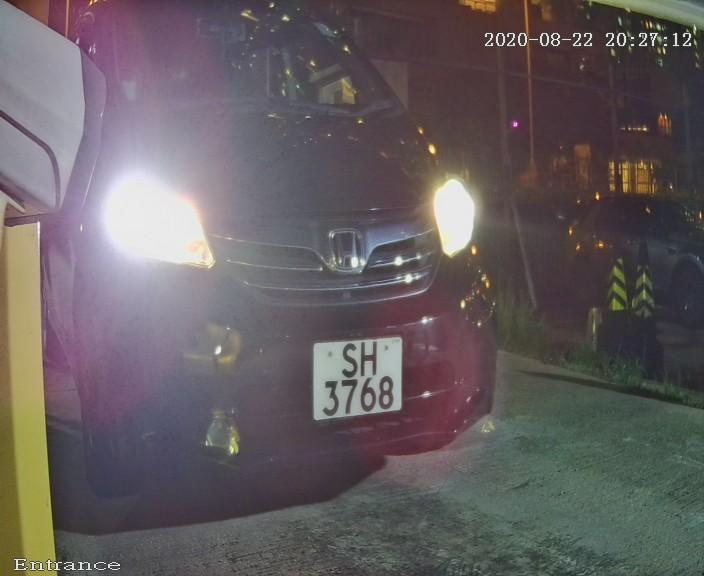License Plate: (302, 325, 409, 427)
